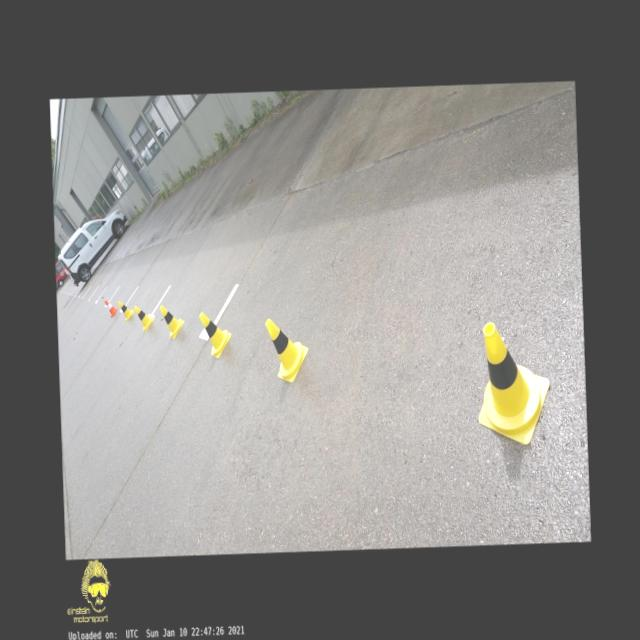orange_cone: (104, 299, 118, 318)
yellow_cone: (475, 320, 551, 446), (265, 316, 309, 382), (198, 310, 232, 358), (160, 304, 184, 339), (134, 304, 154, 332), (118, 300, 134, 323)
